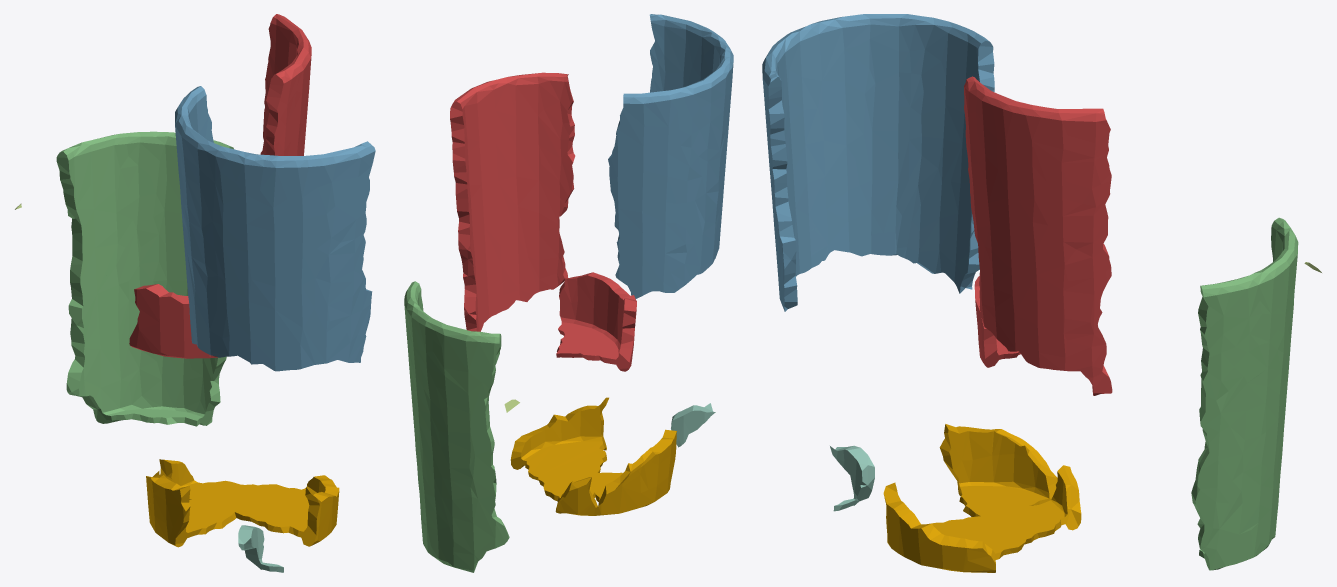
The model's file is fractured_73_6pcs_transformed.glb.
3 renders of one model, left to right at view 1: azimuth 30°, elevation 25°; view 2: azimuth 150°, elevation 25°; view 3: azimuth 270°, elevation 25°, orthographic. The views are drawn at different scales.
Parts seen in each view (by area): view 1: piece_2.obj, piece_3.obj, piece_0.obj, piece_1.obj, piece_4.obj; view 2: piece_1.obj, piece_2.obj, piece_3.obj, piece_0.obj, piece_4.obj; view 3: piece_2.obj, piece_1.obj, piece_3.obj, piece_0.obj, piece_4.obj.
Part boxes in pixels (<box>): piece_2.obj: <box>175,86,375,371</box>; piece_3.obj: <box>56,131,233,426</box>; piece_0.obj: <box>146,459,339,547</box>; piece_1.obj: <box>129,14,311,358</box>; piece_4.obj: <box>238,525,283,572</box>; piece_1.obj: <box>450,72,636,371</box>; piece_2.obj: <box>608,14,733,298</box>; piece_3.obj: <box>404,281,509,572</box>; piece_0.obj: <box>510,397,676,515</box>; piece_4.obj: <box>671,403,715,447</box>; piece_2.obj: <box>762,14,994,311</box>; piece_1.obj: <box>964,76,1112,395</box>; piece_3.obj: <box>1191,217,1298,570</box>; piece_0.obj: <box>883,424,1081,572</box>; piece_4.obj: <box>830,445,874,511</box>.
Size of the model in its own units: 0.7449 by 1.6 by 1.72.
